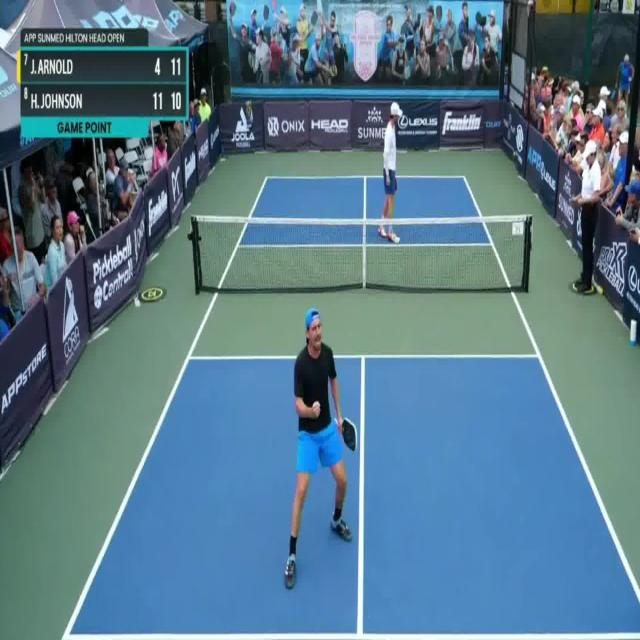Court: (65, 177, 640, 639)
